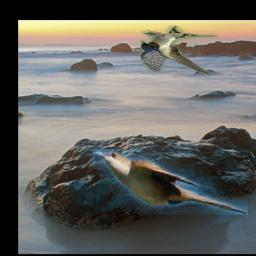Cuckoo: (93, 149, 248, 215)
Swallow: (141, 26, 219, 75)
